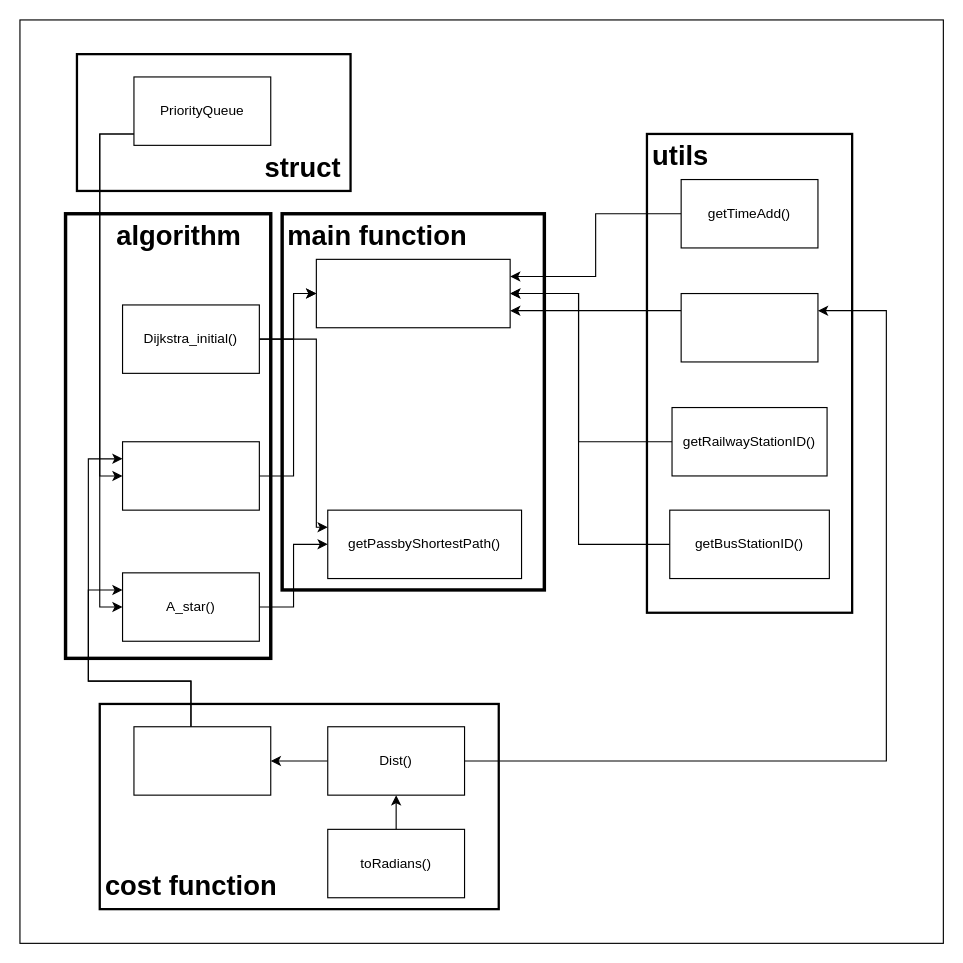
This 963x963 diagram has some shape labels left out. The centre of each missing label's shape, as x and y in pixels:
across(): point (749, 327)
calcCost(): point (202, 760)
Dijkstra(): point (190, 475)
getShortestPath(): point (412, 293)
